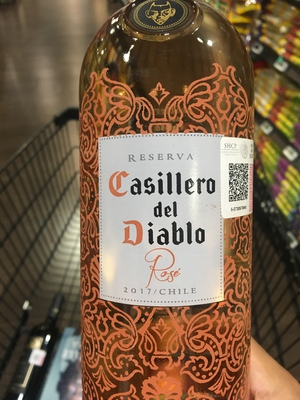casillero del diablo rose: (74, 8, 272, 400)
